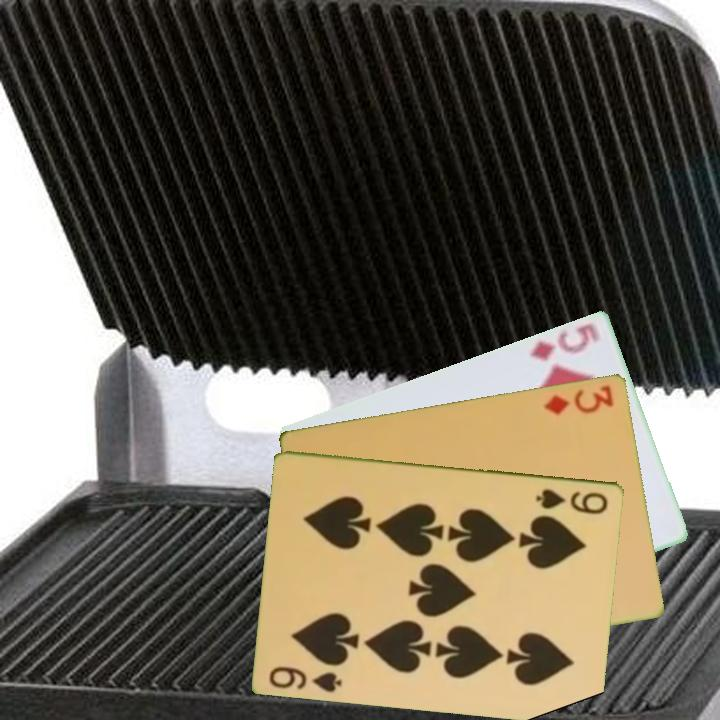3d: (540, 381, 617, 417)
5d: (526, 319, 604, 363)
9s: (266, 662, 345, 695), (533, 485, 611, 517)
